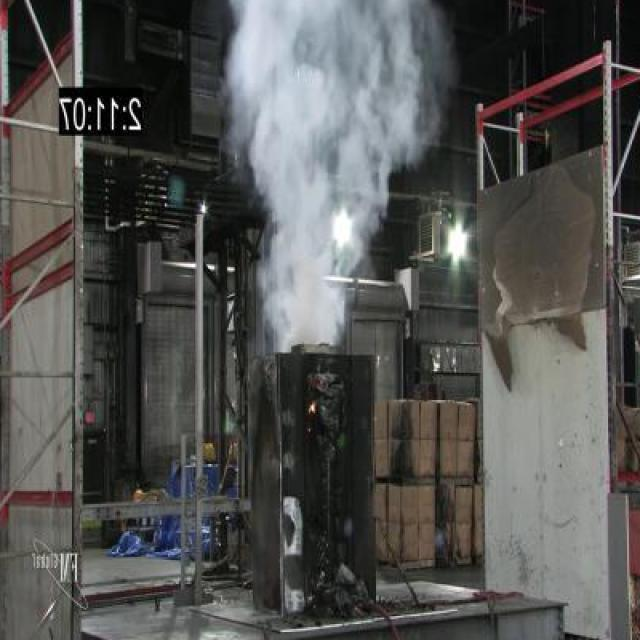fire: (230, 0, 420, 341)
